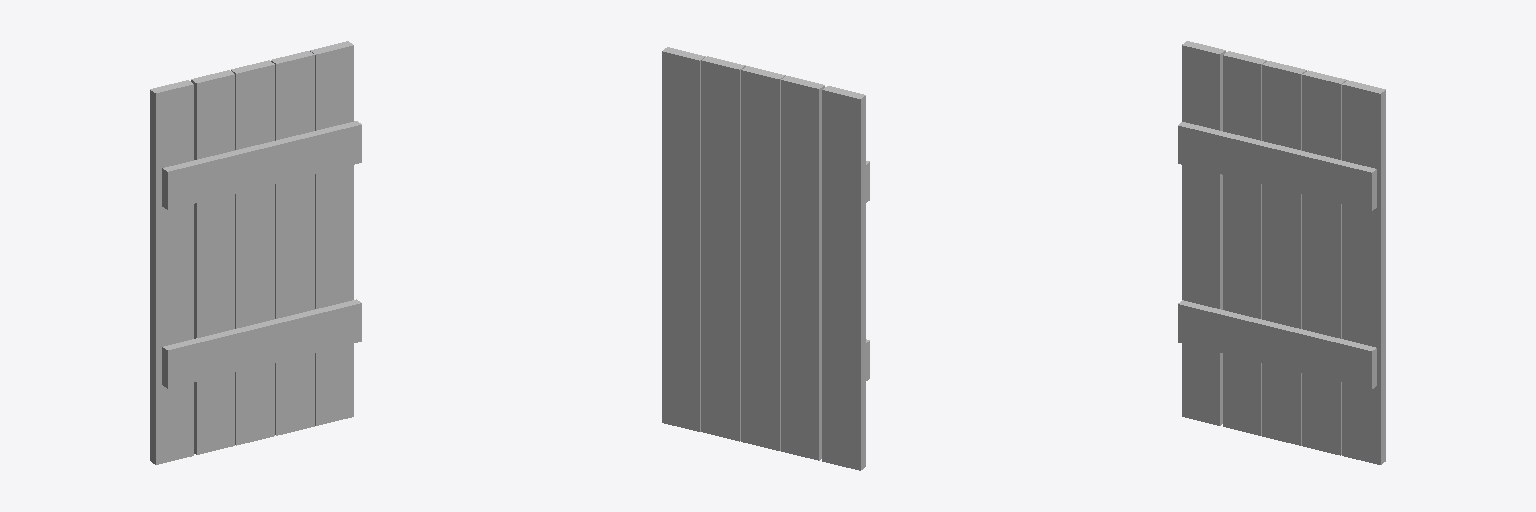
The model's file is doorLP.obj.
3 views of the same model, side by side, from view 1: azimuth 30°, elevation 25°; view 2: azimuth 150°, elevation 25°; view 3: azimuth 330°, elevation 25° (orthographic).
Parts seen in each view (by area): view 1: default; view 2: default; view 3: default.
Part boxes in pixels (x1,y1,x2,y2): default: (150, 41, 361, 464); default: (662, 47, 869, 470); default: (1178, 41, 1385, 464).
Size of the model in its own units: 3.03 by 5.42 by 0.37.